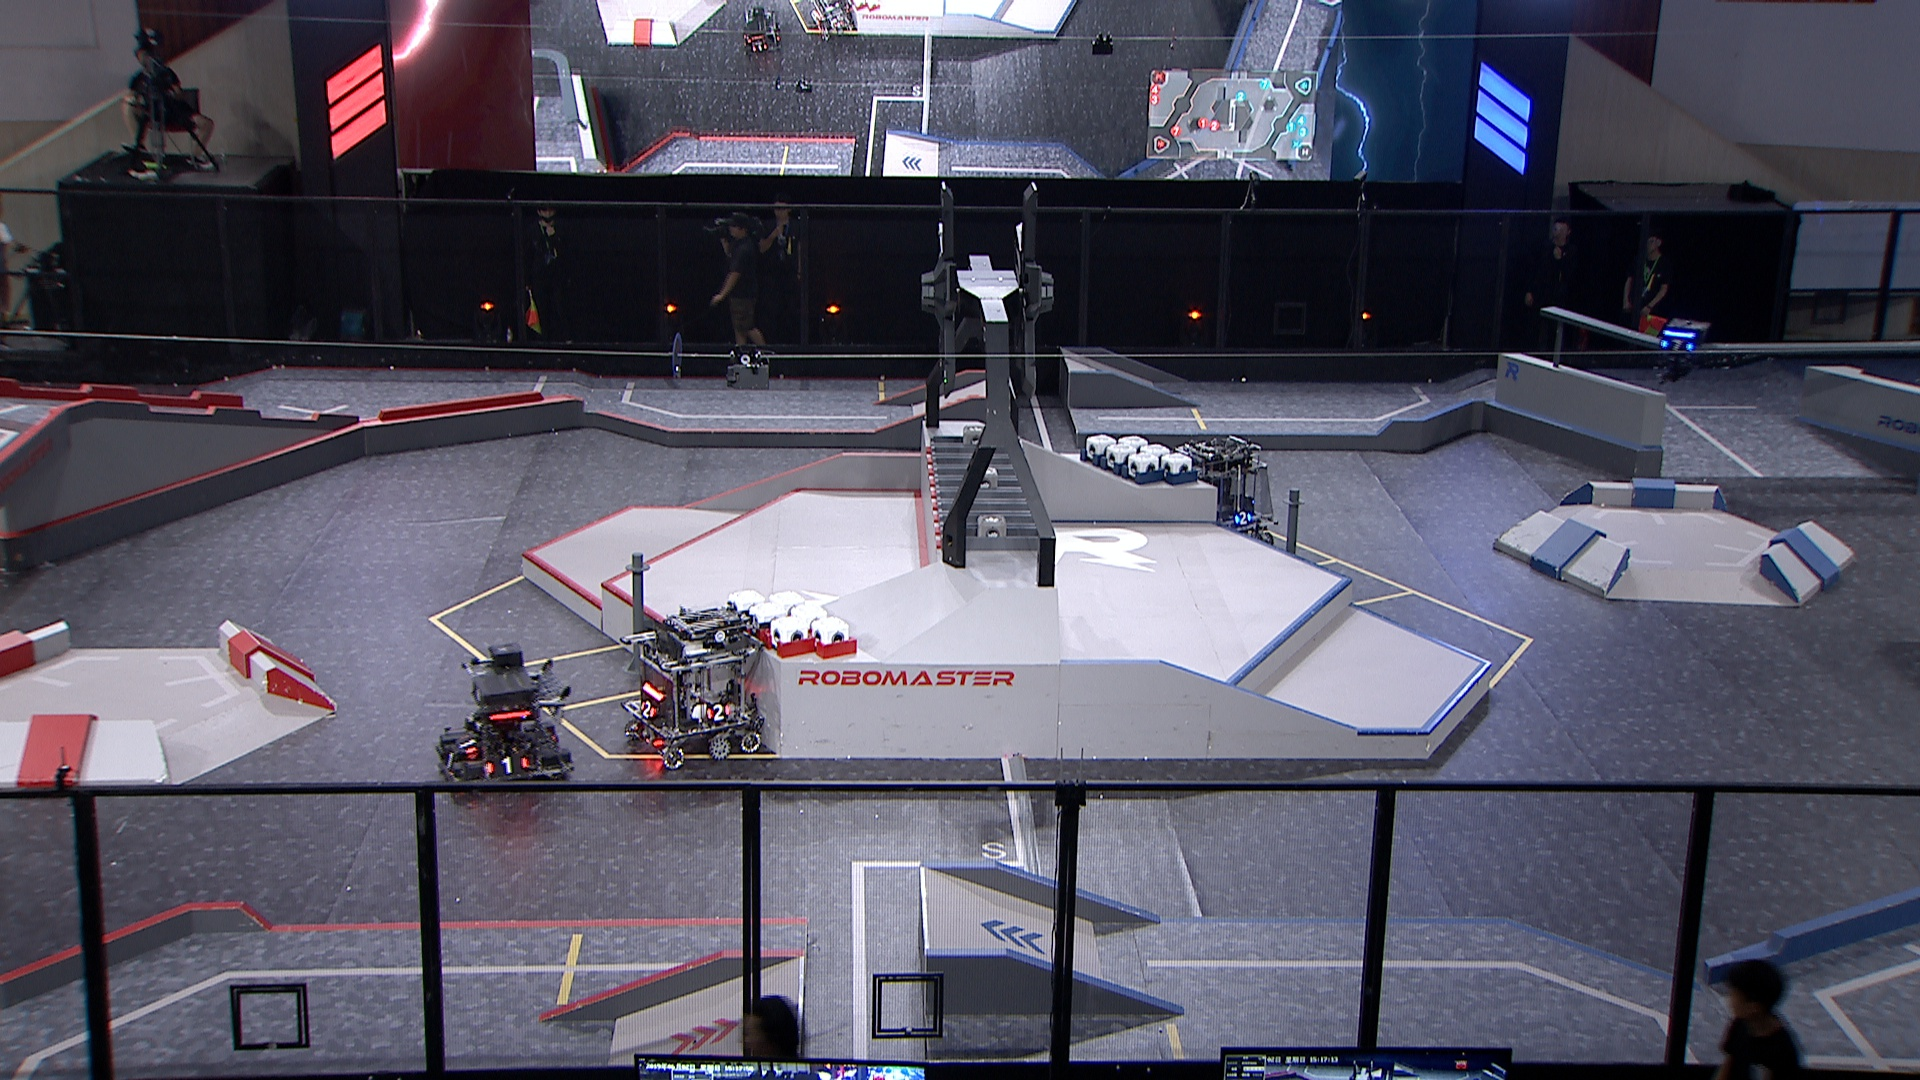armor: (484, 756, 531, 774), (704, 702, 732, 723), (454, 732, 480, 752), (1660, 338, 1695, 351), (442, 746, 458, 770), (638, 698, 657, 717), (1233, 510, 1253, 526)
car: (613, 605, 767, 766), (438, 644, 585, 793), (1163, 433, 1280, 549)
ignore: (742, 7, 783, 55)
watcher: (1652, 313, 1712, 382)
